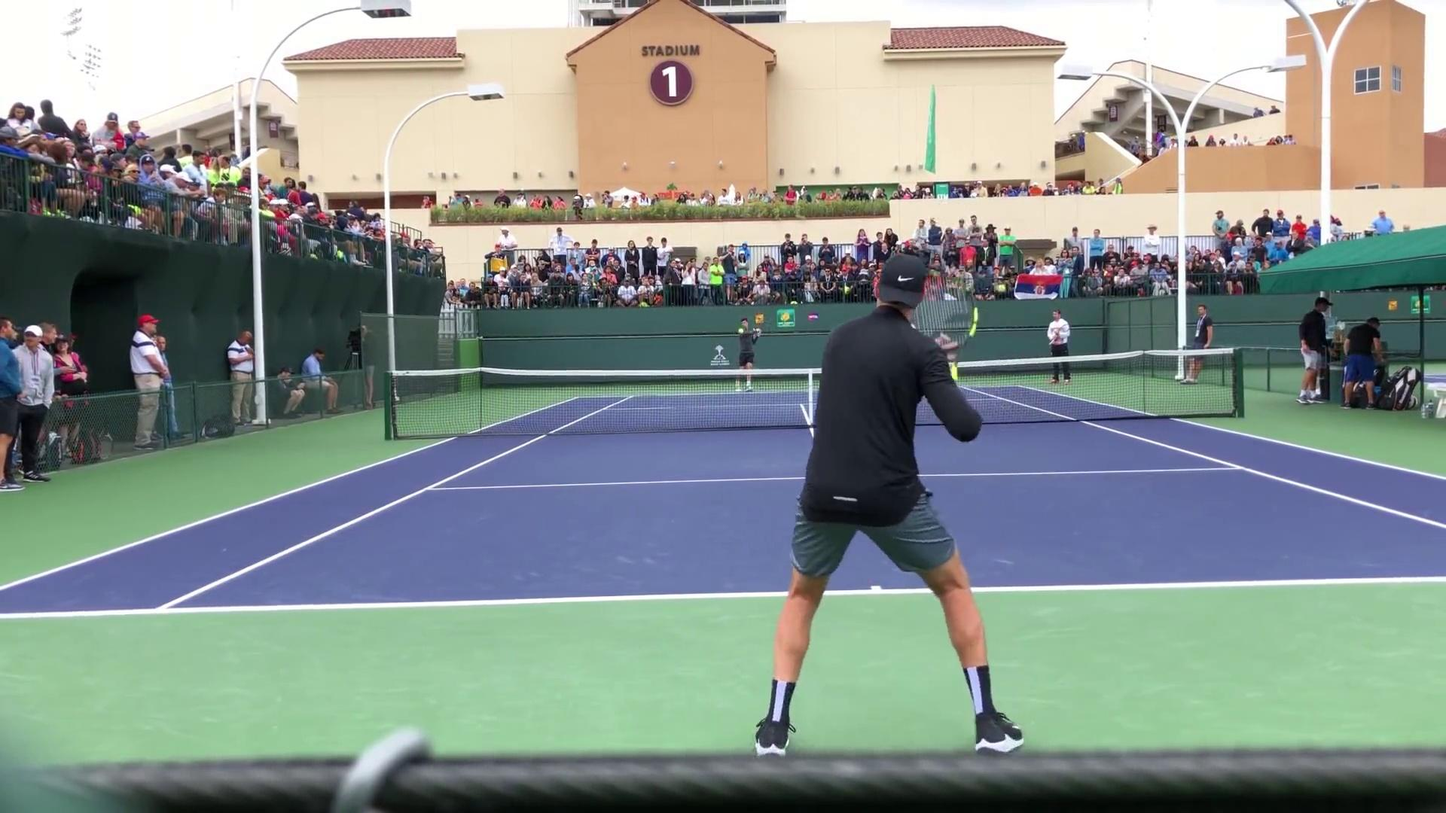ball: (736, 327, 744, 334)
